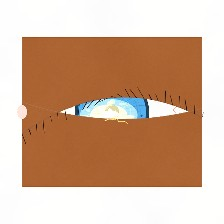corneal_ulcer: (79, 91, 139, 139)
